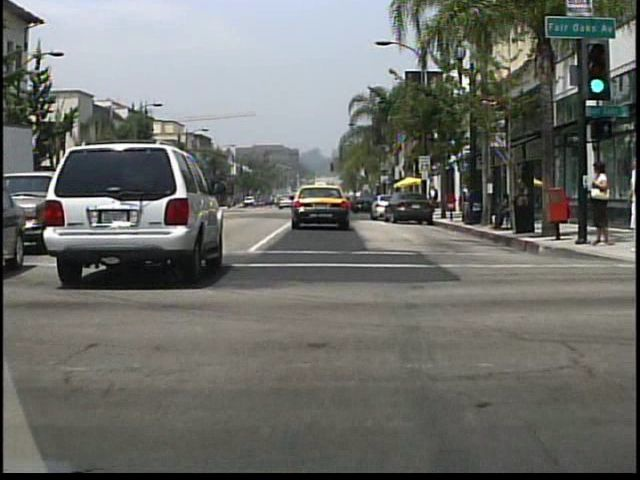person: (584, 162, 612, 247), (489, 191, 517, 232), (513, 179, 527, 229), (427, 184, 440, 213)
